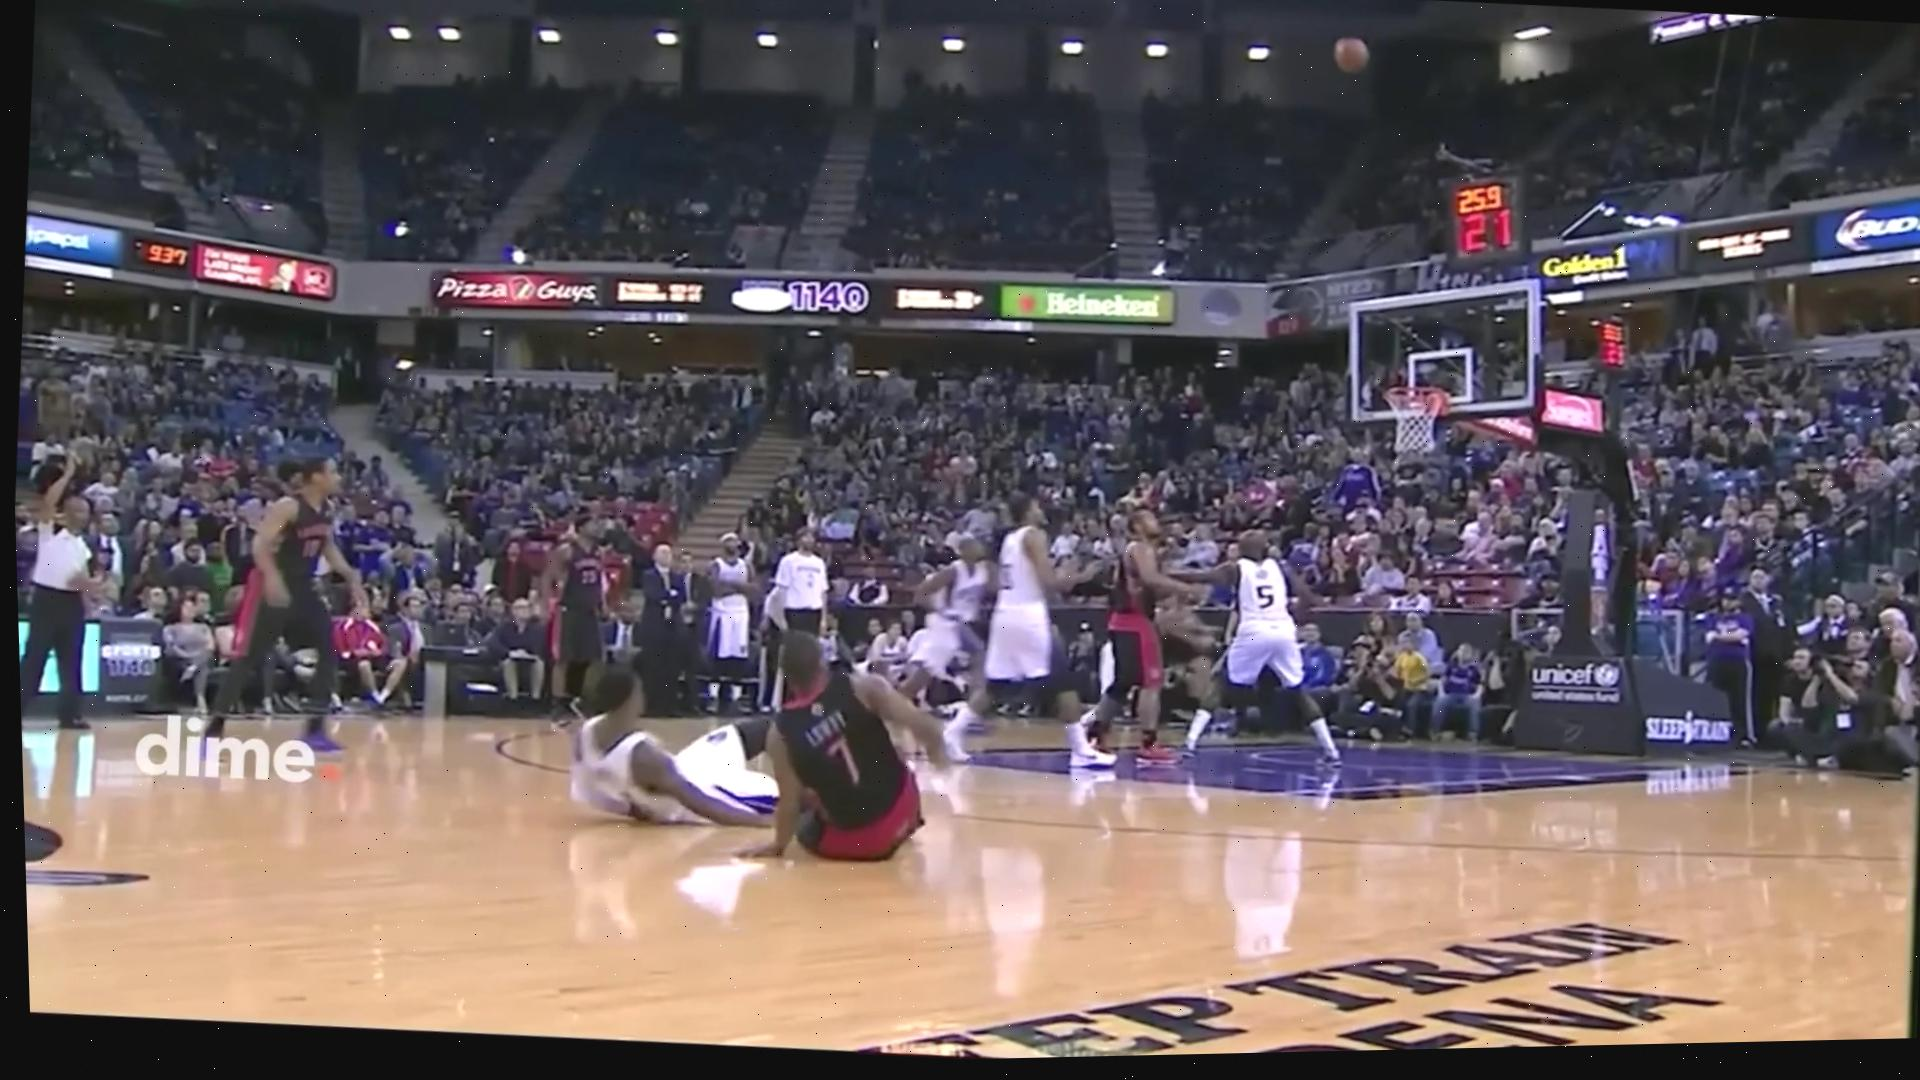no_foul: (525, 600, 967, 874)
